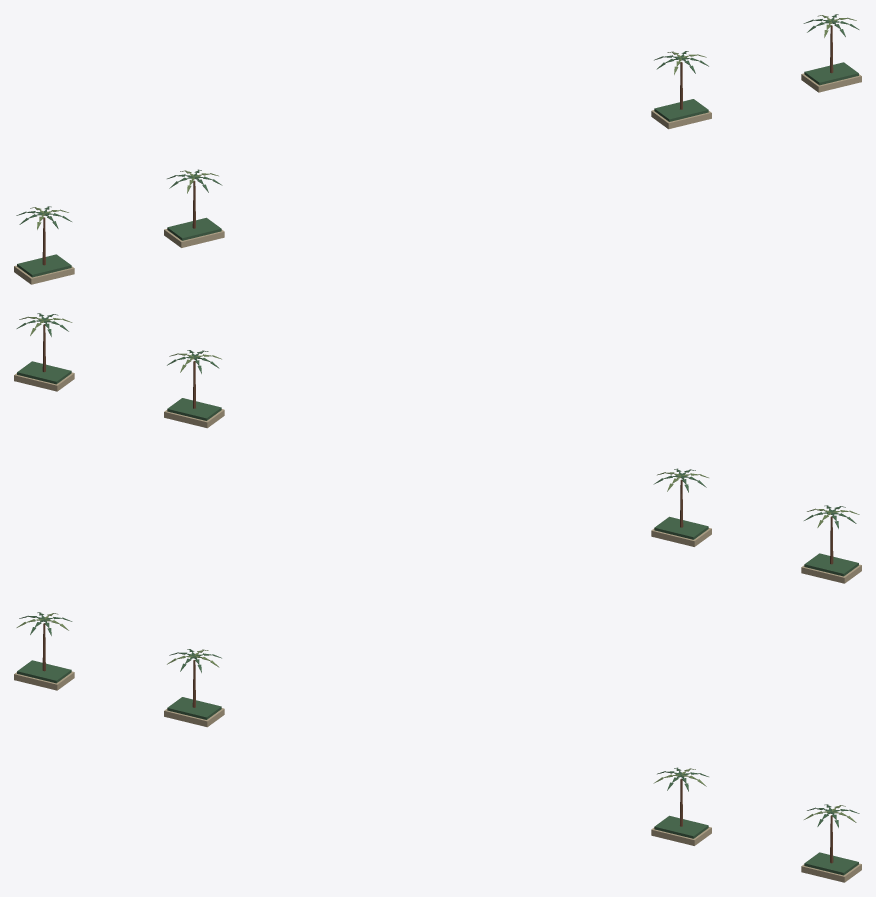
File: KOL_T1_ATMOSPHERE__Landscape.fbx
3 renders of one model, top to bottom at view 1: azimuth 30°, elevation 25°; view 2: azimuth 150°, elevation 25°; view 3: azimuth 330°, elevation 25°, orthographic.
Visible parts, largest first — view 1: KOL_T1_ATMOSPHERE__Landscape__KOL_T1_Leaf, KOL_T1_ATMOSPHERE__Landscape__KOL_T1_Stone, KOL_T1_ATMOSPHERE__Landscape__KOL_T1_Louvre, KOL_T1_ATMOSPHERE__Landscape__KOL_T1_LeafLight; view 2: KOL_T1_ATMOSPHERE__Landscape__KOL_T1_Leaf, KOL_T1_ATMOSPHERE__Landscape__KOL_T1_Stone, KOL_T1_ATMOSPHERE__Landscape__KOL_T1_LeafLight, KOL_T1_ATMOSPHERE__Landscape__KOL_T1_Louvre; view 3: KOL_T1_ATMOSPHERE__Landscape__KOL_T1_Leaf, KOL_T1_ATMOSPHERE__Landscape__KOL_T1_Stone, KOL_T1_ATMOSPHERE__Landscape__KOL_T1_LeafLight, KOL_T1_ATMOSPHERE__Landscape__KOL_T1_Louvre.
Part boxes in pixels (left/top/right/bottom): KOL_T1_ATMOSPHERE__Landscape__KOL_T1_Leaf: left=16, top=14, right=859, bottom=277; KOL_T1_ATMOSPHERE__Landscape__KOL_T1_Stone: left=14, top=73, right=861, bottom=284; KOL_T1_ATMOSPHERE__Landscape__KOL_T1_Louvre: left=42, top=25, right=833, bottom=265; KOL_T1_ATMOSPHERE__Landscape__KOL_T1_LeafLight: left=30, top=15, right=856, bottom=229; KOL_T1_ATMOSPHERE__Landscape__KOL_T1_Leaf: left=16, top=313, right=858, bottom=576; KOL_T1_ATMOSPHERE__Landscape__KOL_T1_Stone: left=14, top=372, right=861, bottom=583; KOL_T1_ATMOSPHERE__Landscape__KOL_T1_LeafLight: left=19, top=316, right=859, bottom=527; KOL_T1_ATMOSPHERE__Landscape__KOL_T1_Louvre: left=42, top=324, right=833, bottom=564; KOL_T1_ATMOSPHERE__Landscape__KOL_T1_Leaf: left=17, top=612, right=859, bottom=875; KOL_T1_ATMOSPHERE__Landscape__KOL_T1_Stone: left=14, top=671, right=861, bottom=882; KOL_T1_ATMOSPHERE__Landscape__KOL_T1_LeafLight: left=16, top=613, right=856, bottom=822; KOL_T1_ATMOSPHERE__Landscape__KOL_T1_Louvre: left=42, top=623, right=833, bottom=863.
Size of the model in its own units: 251 by 17.25 by 15.
